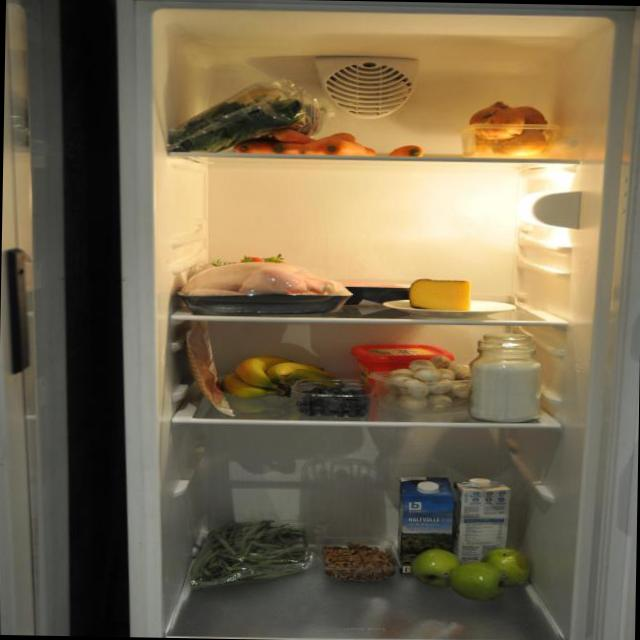Carne cerdo: (177, 320, 244, 418)
Carne pollo: (176, 258, 354, 318)
Cebolla: (460, 100, 564, 162)
Champiñones: (380, 360, 470, 414)
Gambas/Langostinos: (320, 535, 394, 584)
Leche: (394, 474, 461, 574), (457, 476, 515, 576)
Mantequilla: (350, 341, 454, 376)
Manzana: (403, 542, 540, 608)
Plátano: (222, 352, 336, 402)
Queso: (407, 275, 476, 311)
Zanahoria: (232, 129, 376, 157), (388, 143, 428, 158)
